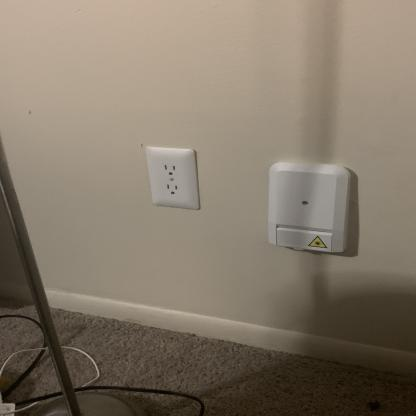OUTLET: (145, 146, 202, 209)
